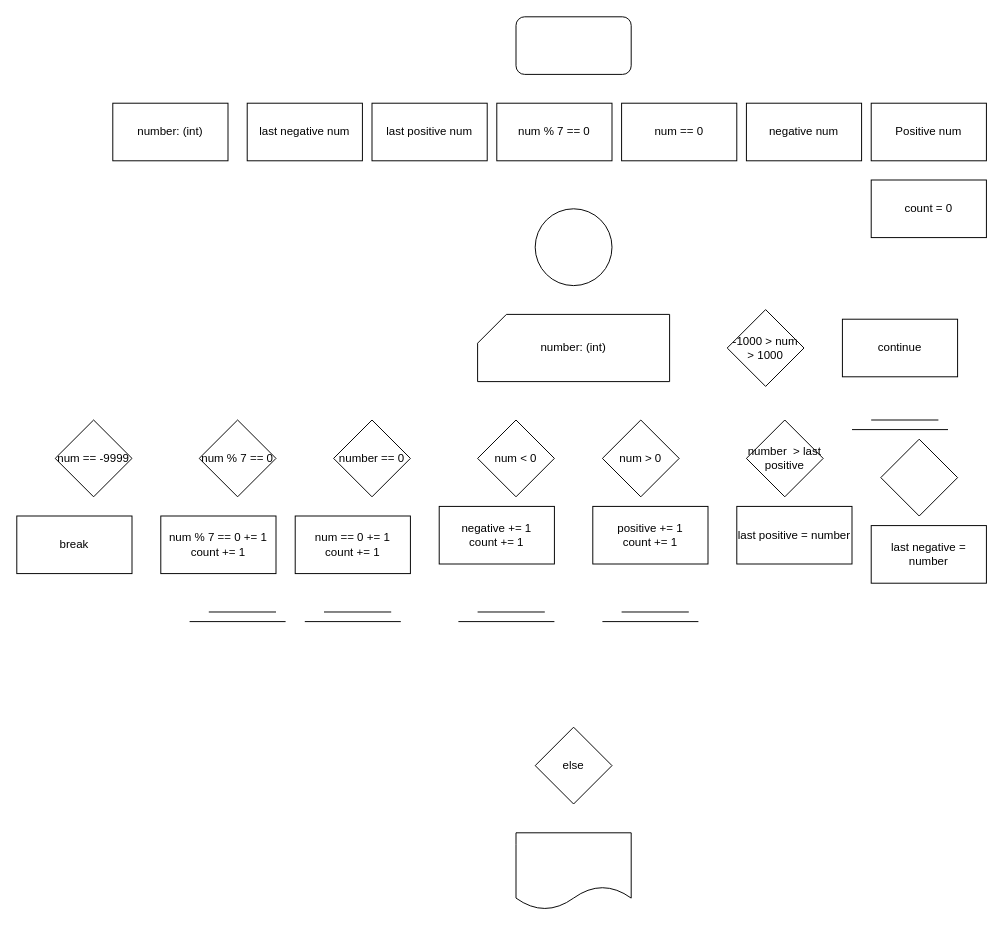
Image size: 1003x926. Some labels were removed from this diagram. Here are the shapes that lost their labels. From the top down, the centre of each, then its label:
[573,45]: start
[573,247]: while count != 10
[919,477]: number > last negative
[573,871]: data
